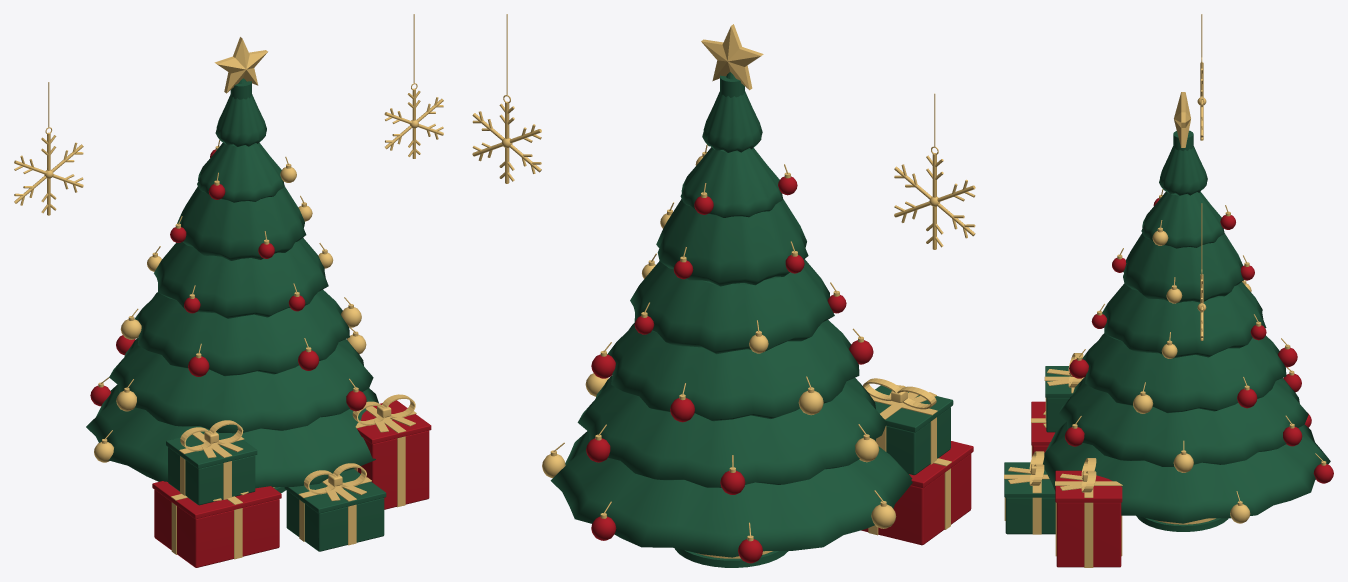
File: edited.glb
The picture shows the model from 3 angles, left to right: view 1: azimuth 30°, elevation 25°; view 2: azimuth 150°, elevation 25°; view 3: azimuth 270°, elevation 25°; orthographic projection. The views are drawn at different scales.
Visible parts, largest first — view 1: TREE_Pine, GIFTS_Cranberry, GIFTS_Pine, GIFTS_Champagne, TREE_Champagne, TREE_Cranberry, SNOWFLAKE_01_Champagne, SNOWFLAKE_02_Champagne; view 2: TREE_Pine, TREE_Champagne, GIFTS_Cranberry, TREE_Cranberry, GIFTS_Pine, GIFTS_Champagne, SNOWFLAKE_01_Champagne, SNOWFLAKE_02_Champagne; view 3: TREE_Pine, GIFTS_Cranberry, GIFTS_Champagne, GIFTS_Pine, TREE_Champagne, TREE_Cranberry, SNOWFLAKE_01_Champagne, SNOWFLAKE_02_Champagne.
Boxes of the visible parts, x1=… form: TREE_Pine: x1=86, y1=78, x2=378, y2=493; GIFTS_Cranberry: x1=152, y1=400, x2=431, y2=567; GIFTS_Pine: x1=166, y1=431, x2=386, y2=551; GIFTS_Champagne: x1=171, y1=394, x2=416, y2=559; TREE_Champagne: x1=94, y1=37, x2=366, y2=487; TREE_Cranberry: x1=90, y1=149, x2=366, y2=411; SNOWFLAKE_01_Champagne: x1=14, y1=82, x2=83, y2=215; SNOWFLAKE_02_Champagne: x1=384, y1=14, x2=443, y2=158; TREE_Pine: x1=550, y1=72, x2=912, y2=567; TREE_Champagne: x1=542, y1=24, x2=896, y2=558; GIFTS_Cranberry: x1=861, y1=441, x2=973, y2=545; TREE_Cranberry: x1=586, y1=176, x2=873, y2=563; GIFTS_Pine: x1=874, y1=385, x2=953, y2=475; GIFTS_Champagne: x1=863, y1=378, x2=951, y2=535; SNOWFLAKE_01_Champagne: x1=894, y1=93, x2=975, y2=249; SNOWFLAKE_02_Champagne: x1=472, y1=14, x2=541, y2=183; TREE_Pine: x1=1043, y1=130, x2=1330, y2=531; GIFTS_Cranberry: x1=1031, y1=401, x2=1122, y2=567; GIFTS_Champagne: x1=1004, y1=353, x2=1122, y2=567; GIFTS_Pine: x1=1004, y1=366, x2=1072, y2=534; TREE_Champagne: x1=1072, y1=92, x2=1326, y2=524; TREE_Cranberry: x1=1065, y1=198, x2=1333, y2=483; SNOWFLAKE_01_Champagne: x1=1197, y1=14, x2=1206, y2=140; SNOWFLAKE_02_Champagne: x1=1197, y1=203, x2=1206, y2=340.
Bounding box in the file's own units: 2.54 × 2.5 × 1.78.
